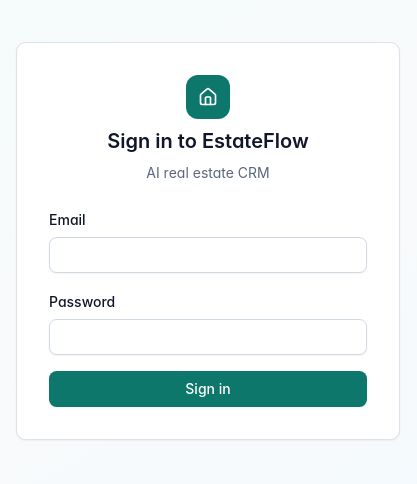
Test: Login page › shows the server error message on failed login
The image size is (417, 484).
Type "a@b.co" into the field labelled "Email".
click(208, 255); type("a@b.co")  # box [49,237,367,273]
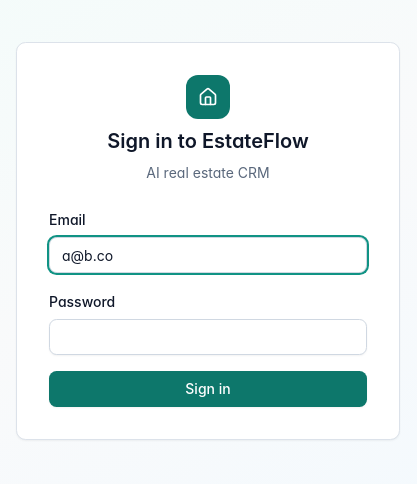
Type "wrong" into the password field labelled "Password".
click(208, 337); type("wrong")  # box [49,319,367,355]
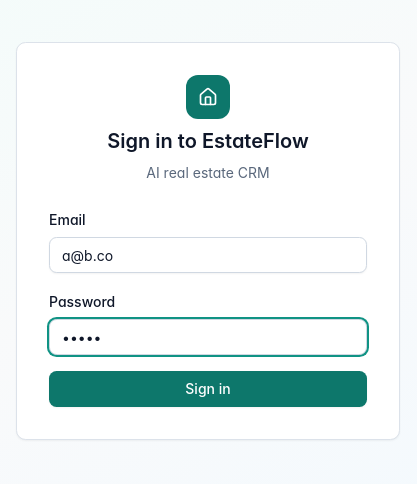
Click the button "Sign in".
click(208, 389)  # box [49,371,367,407]
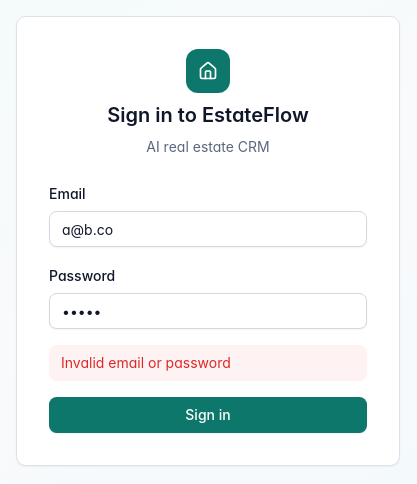
Now the message reads "Invalid email or password", box [61,354,231,371]
